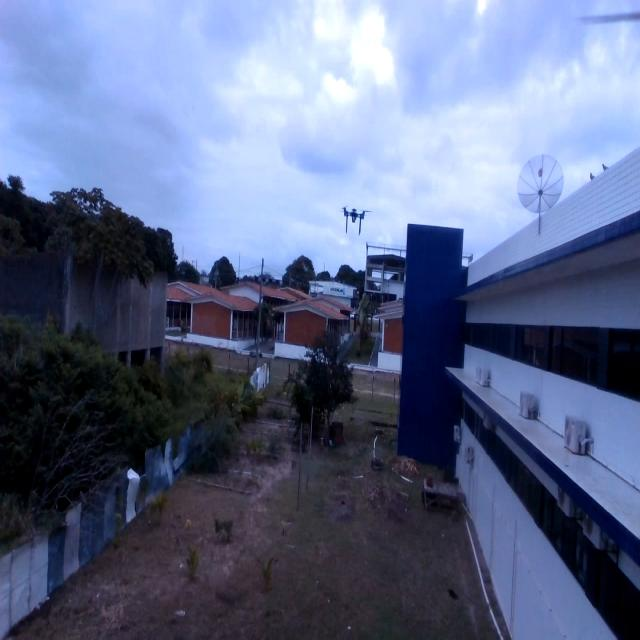-uav-: (337, 194, 374, 245)
